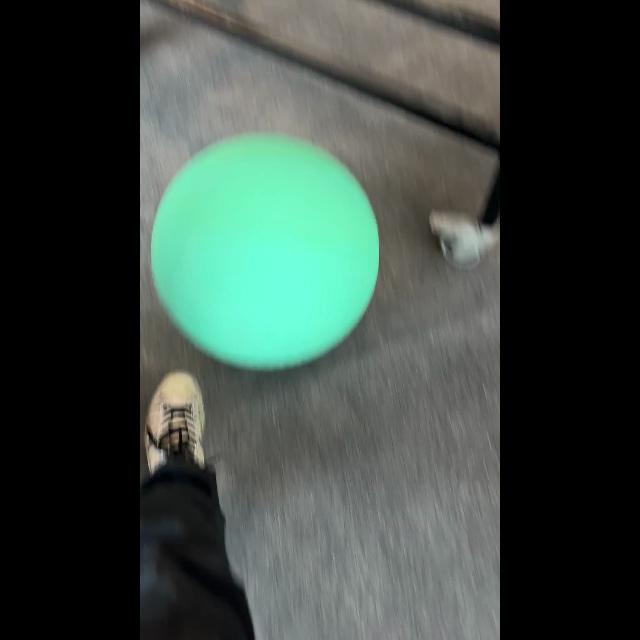ALGAE: (150, 130, 380, 372)
